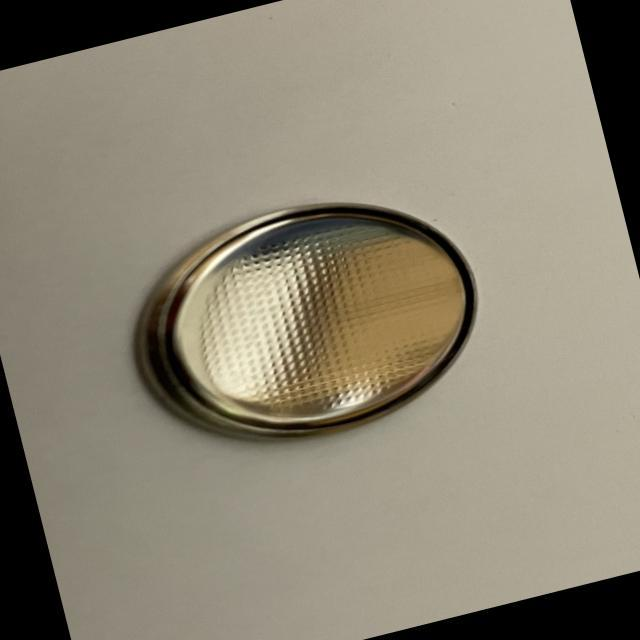COIN: (104, 164, 506, 479)
